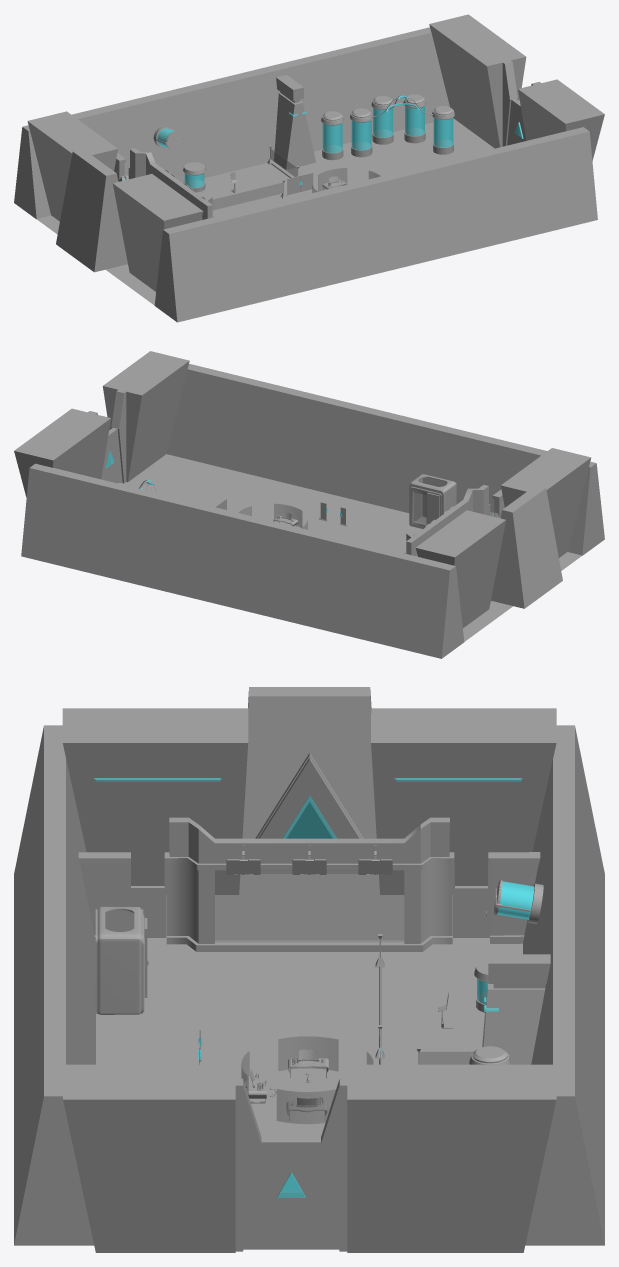
Rendered from L1_RM1_Models with UVs.fbx.
3 views of the same model, one above another, from view 1: azimuth 30°, elevation 25°; view 2: azimuth 150°, elevation 25°; view 3: azimuth 270°, elevation 25° (orthographic). The views are drawn at different scales.
Visible parts, largest first — view 1: L1_RM1_wall_right, L1_RM1_wall_left, L1_RM1_wall_front, L1_RM1_ground, L1_RM1_door_left_wall1, L1_RM1_door_right_wall, L1_RM1_wall, level_1_rm1_observation_room_wall_middle_mid, L1_RM1_rail_long_glass, L1_RM1_cultivation_tanks_style02_1_frame, L1_RM1_cultivation_tanks_style02_4frame, L1_RM1_cultivation_tanks_style02_1_glass (+13 smaller); view 2: L1_RM1_wall_left, L1_RM1_wall_right, L1_RM1_wall_front, L1_RM1_ground, L1_RM1_door_right_wall, L1_RM1_door_left_wall1, level_1_rm1_observation_room_wall_middle_mid, L1_RM1_door_right, level_1_rm1_observation_room_wall_middle_right, L1_RM1_desk_glass, L1_RM1_cultivation_tanks_style04_big_top_low, L1_RM1_cultivation_tanks_style04; view 3: L1_RM1_wall_front, L1_RM1_ground, L1_RM1_door_left_wall1, L1_RM1_wall_right, L1_RM1_door_right_wall, L1_RM1_wall_left, L1_RM1_observation_room_glass, level_1_rm1_observation_room_wall_middle_mid, L1_RM1_wall, L1_RM1_door_right, L1_RM1_door_left, level_1_rm1_observation_room_wall_middle_right (+11 smaller).
Part boxes in pixels (box(x1,y1,x2,y2)): L1_RM1_wall_right: box(154, 127, 597, 322); L1_RM1_wall_left: box(14, 27, 449, 219); L1_RM1_wall_front: box(27, 111, 203, 291); L1_RM1_ground: box(36, 118, 494, 305); L1_RM1_door_left_wall1: box(429, 14, 526, 148); L1_RM1_door_right_wall: box(518, 79, 604, 160); L1_RM1_wall: box(274, 75, 315, 169); level_1_rm1_observation_room_wall_middle_mid: box(146, 152, 213, 216); L1_RM1_rail_long_glass: box(213, 183, 283, 210); L1_RM1_cultivation_tanks_style02_1_frame: box(350, 98, 398, 157); L1_RM1_cultivation_tanks_style02_4frame: box(408, 97, 454, 154); L1_RM1_cultivation_tanks_style02_1_glass: box(351, 120, 371, 150); L1_RM1_wall_left: box(21, 463, 464, 658); L1_RM1_wall_right: box(166, 363, 604, 555); L1_RM1_wall_front: box(415, 448, 591, 627); L1_RM1_ground: box(124, 454, 581, 641); L1_RM1_door_right_wall: box(102, 351, 189, 483); L1_RM1_door_left_wall1: box(14, 408, 110, 497); level_1_rm1_observation_room_wall_middle_mid: box(405, 489, 472, 552); L1_RM1_door_right: box(108, 427, 122, 483); level_1_rm1_observation_room_wall_middle_right: box(468, 485, 490, 515); L1_RM1_desk_glass: box(238, 504, 307, 529); L1_RM1_cultivation_tanks_style04_big_top_low: box(409, 474, 455, 495); L1_RM1_cultivation_tanks_style04: box(410, 486, 441, 528); L1_RM1_wall_front: box(62, 687, 556, 894); L1_RM1_ground: box(96, 874, 522, 1191); L1_RM1_door_left_wall1: box(321, 1064, 556, 1252); L1_RM1_wall_right: box(14, 725, 95, 1245); L1_RM1_door_right_wall: box(63, 1064, 261, 1252); L1_RM1_wall_left: box(523, 725, 604, 1245); L1_RM1_observation_room_glass: box(215, 870, 403, 941); level_1_rm1_observation_room_wall_middle_mid: box(196, 825, 422, 951); L1_RM1_wall: box(482, 954, 550, 1064); L1_RM1_door_right: box(243, 1138, 291, 1249); L1_RM1_door_left: box(291, 1138, 338, 1249); level_1_rm1_observation_room_wall_middle_right: box(164, 817, 198, 951).
Size of the model in its own units: 5865 by 1233 by 3595.
